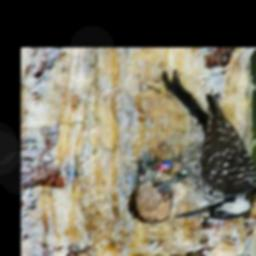Woodpecker: (139, 70, 256, 220)
